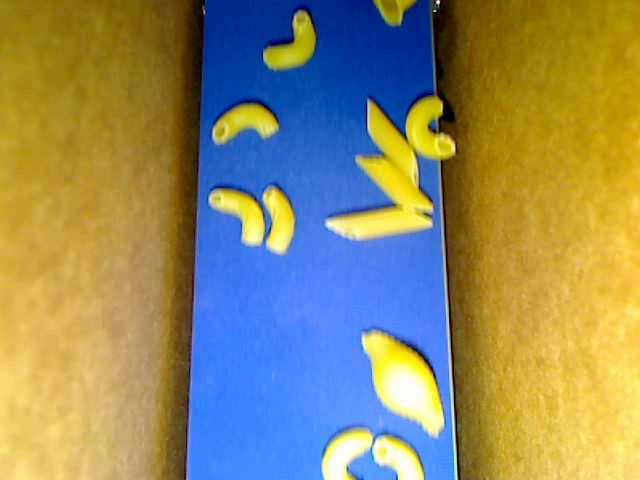elbow: (404, 95, 457, 161), (208, 188, 265, 245), (261, 10, 316, 69), (211, 103, 279, 144), (320, 428, 373, 479), (372, 434, 424, 479), (263, 183, 294, 254)
penne: (366, 98, 419, 187), (354, 153, 435, 211), (324, 205, 433, 241)
shell: (361, 327, 445, 439), (373, 1, 418, 28)
